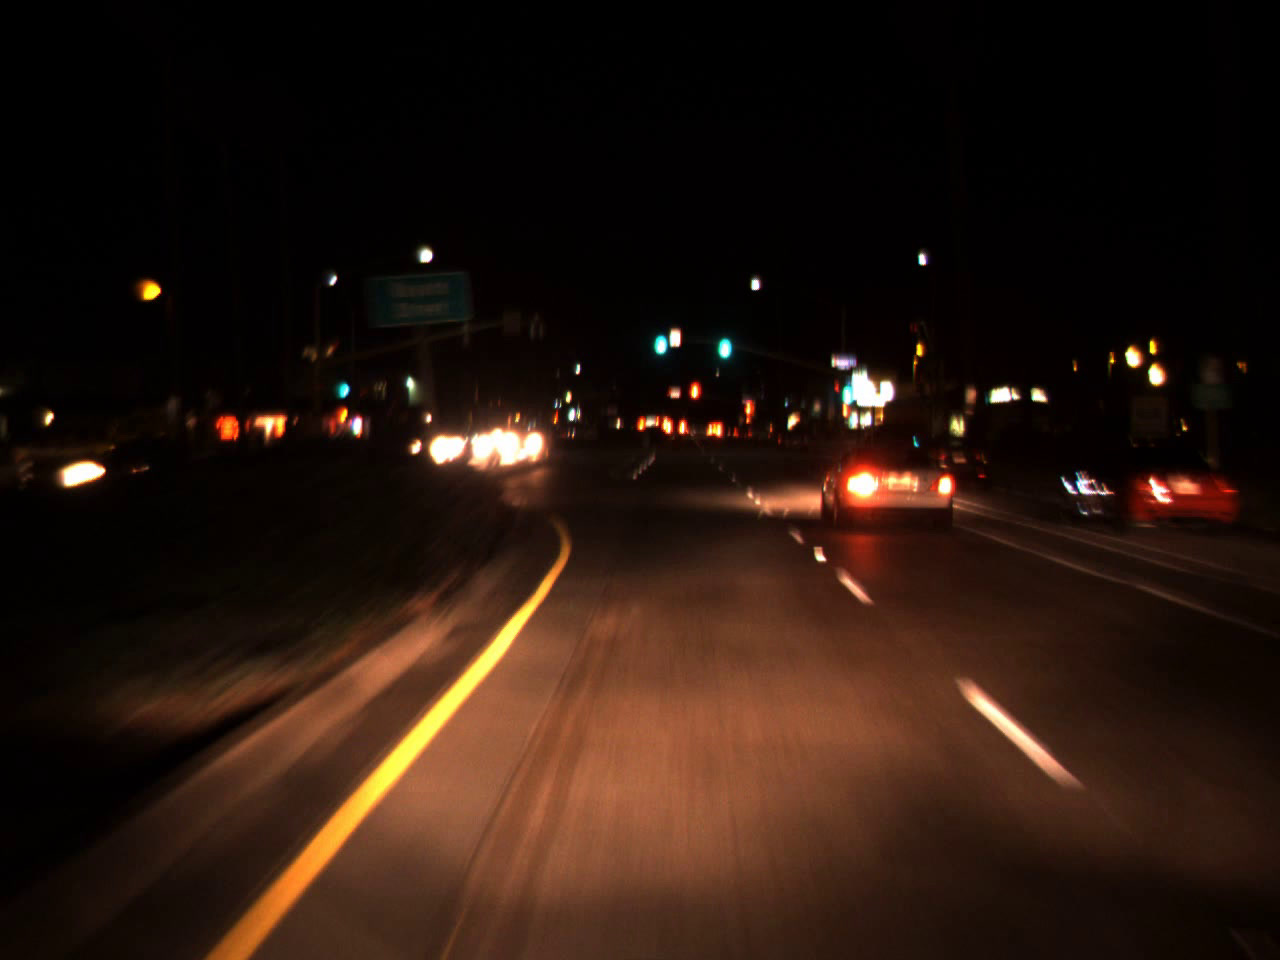go: (648, 313, 669, 358), (713, 320, 734, 359), (335, 364, 353, 403), (839, 365, 853, 410)
stop: (689, 381, 699, 416), (743, 397, 755, 426)
